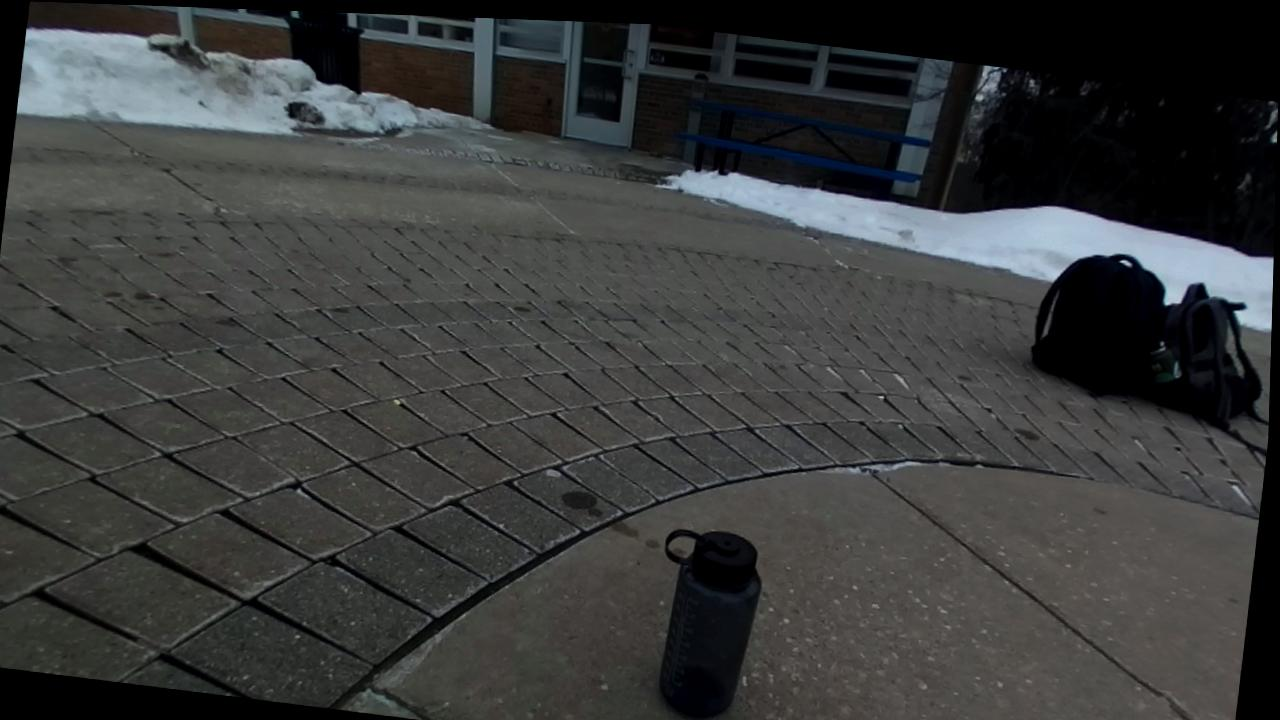bottle: (660, 529, 760, 716)
